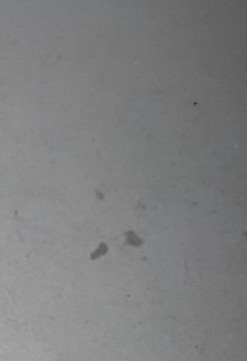grey spot: (90, 241, 108, 258), (126, 230, 142, 246)
